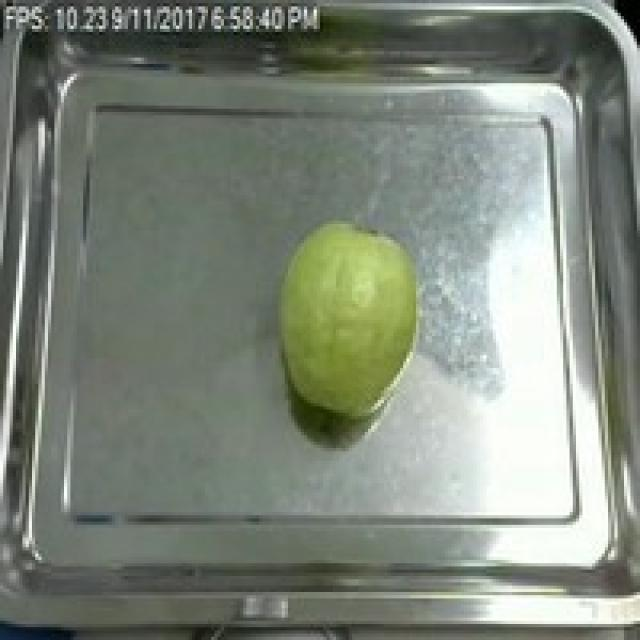Fruit: (269, 211, 429, 426)
